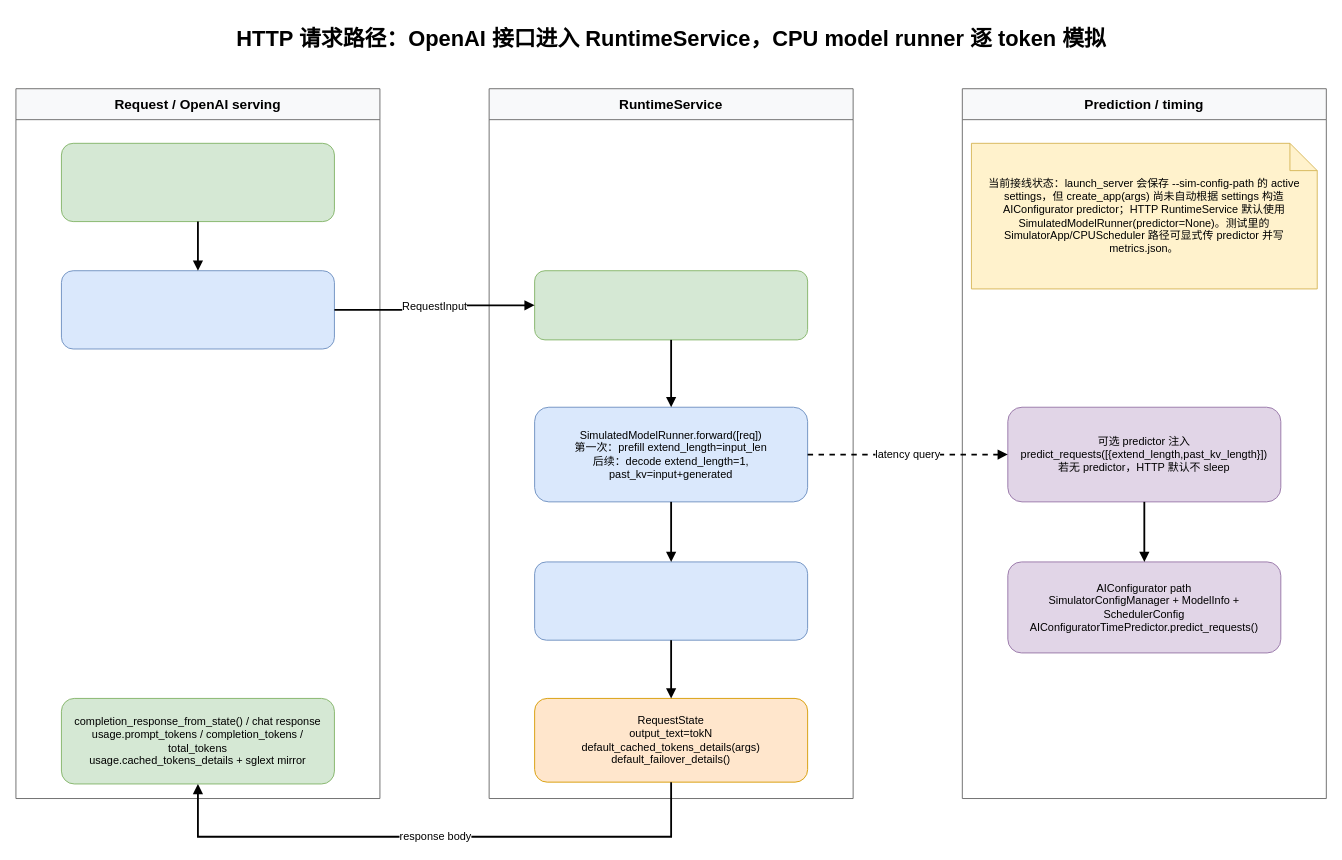
This 1342x860 diagram has some shape labels left out. Here are the shapes that lost their labels. From the top down, the centre of each, then its label:
the point at 197,182: POST /v1/completions POST /v1/chat/completions POST /generate
the point at 197,309: build_completion_input() 或 render_chat_prompt() TokenizerManager 生成 RequestInput
the point at 671,305: RuntimeService.submit(req) while output_len < max_new_tokens
the point at 671,600: 生成确定性 token ids output_token_ids=[1,2,...] finished_reason=length
